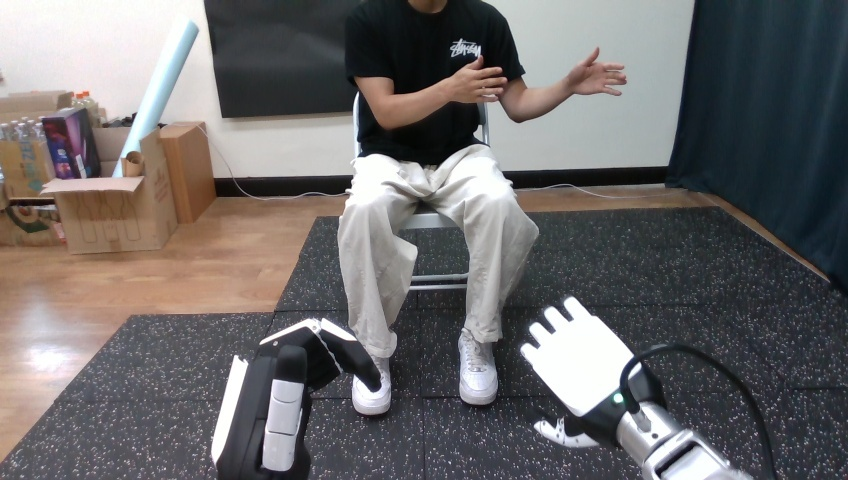left robot hand: (521, 297, 751, 479), (212, 319, 381, 478), (443, 56, 507, 102), (565, 47, 625, 95)
